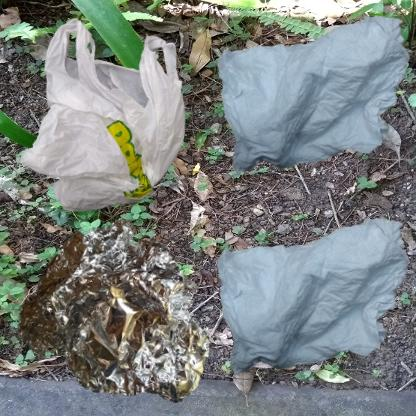aluminio: (10, 213, 216, 414)
bolsa: (10, 10, 219, 249)
papel: (213, 10, 416, 182), (213, 213, 416, 381)
